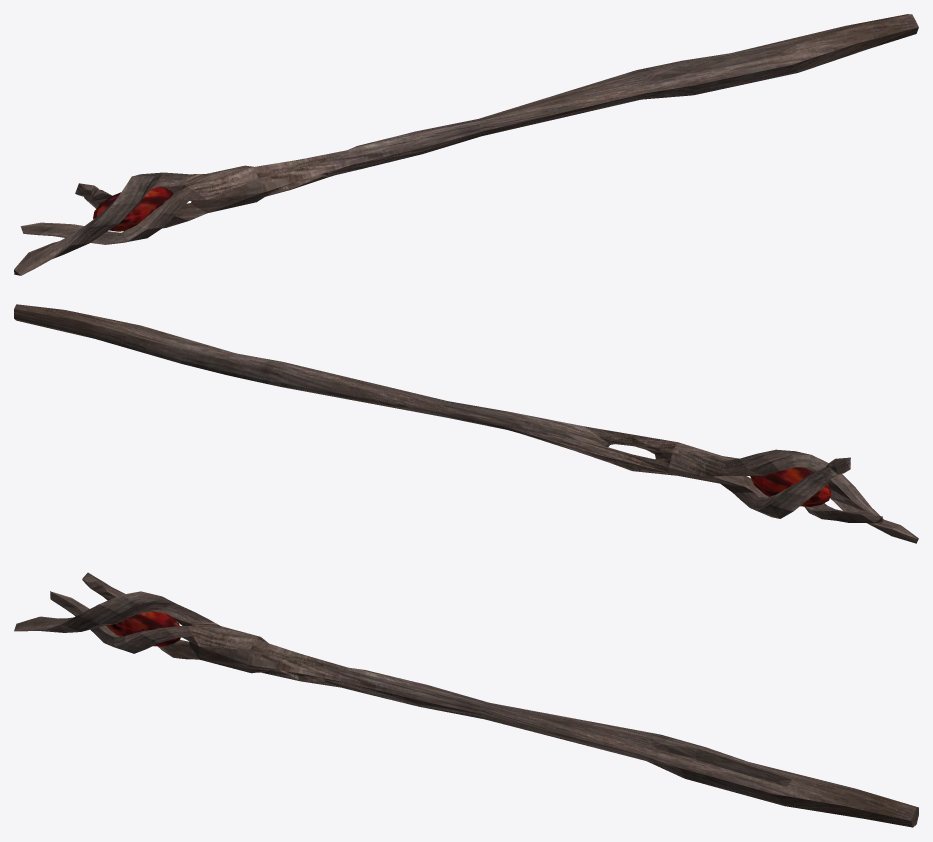
Rendered from G3_WEAPON_STAFF_MANA_04.glb.
3 renders of one model, top to bottom at view 1: azimuth 30°, elevation 25°; view 2: azimuth 150°, elevation 25°; view 3: azimuth 330°, elevation 25°, orthographic. The views are drawn at different scales.
Visible parts, largest first — view 1: G3_WEAPON_STAFF_MANA_04; view 2: G3_WEAPON_STAFF_MANA_04; view 3: G3_WEAPON_STAFF_MANA_04.
Part boxes in pixels (x1,y1,x2,y2): G3_WEAPON_STAFF_MANA_04: (14,14,918,275); G3_WEAPON_STAFF_MANA_04: (14,304,918,543); G3_WEAPON_STAFF_MANA_04: (14,572,918,827).
Bounding box in the file's own units: 2.02 × 0.1517 × 0.1282.
Materials: 1 (1 with a texture image).
